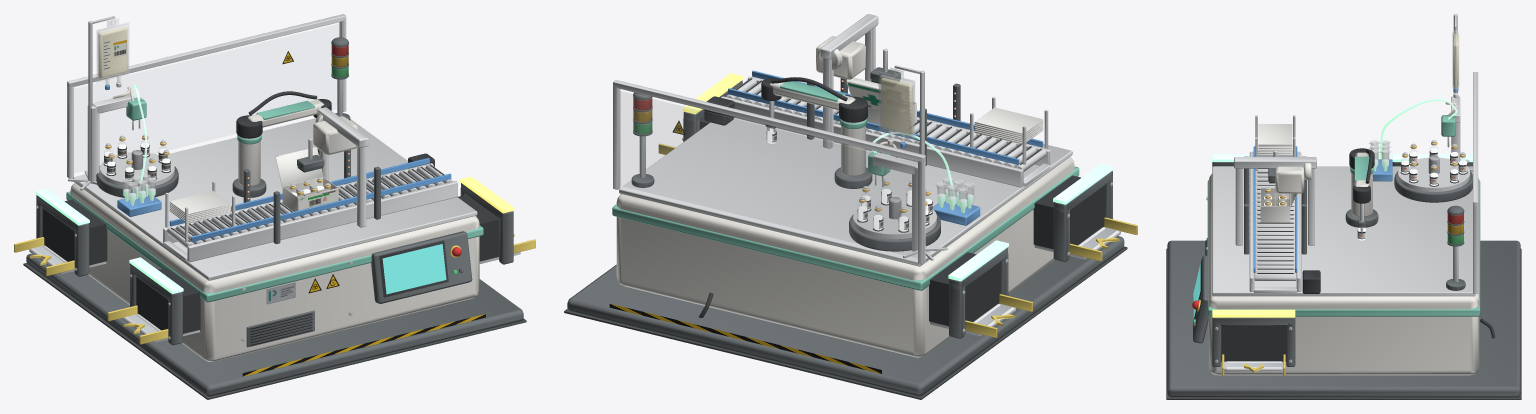
File: envasadora.glb
3 views of the same model, side by side, from view 1: azimuth 30°, elevation 25°; view 2: azimuth 150°, elevation 25°; view 3: azimuth 270°, elevation 25° (orthographic). The views are drawn at different scales.
Visible parts, largest first — view 1: armario, resguardo, mesa, zocalo, cinta_lateral-1, franja_familia, consola_cuerpo, pantalla, boca_entrada0_hueco, boca_entrada1_hueco, resguardo_perfil_sup, zocalo_goma (+32 smaller); view 2: armario, resguardo, mesa, zocalo, franja_familia, cinta_lateral1, resguardo_perfil_sup, boca_entrada1_hueco, boca_entrada0_hueco, zocalo_goma, cuerpo, vaciar_suero (+28 smaller); view 3: mesa, zocalo, armario, boca_salida_hueco, franja_familia, zocalo_goma, carrusel_estrella, carrusel_base, etiq_puente, consola_cuerpo, etiq_cuerpo, resguardo_perfil_sup (+21 smaller).
Boxes of the visible parts, x1,y1,x2,y2 form: armario: [70, 183, 479, 361]; resguardo: [74, 24, 339, 172]; mesa: [72, 118, 477, 280]; zocalo: [26, 253, 523, 396]; cinta_lateral-1: [187, 181, 457, 262]; franja_familia: [66, 191, 483, 302]; consola_cuerpo: [371, 231, 472, 303]; pantalla: [382, 244, 446, 294]; boca_entrada0_hueco: [42, 199, 107, 265]; boca_entrada1_hueco: [136, 268, 200, 333]; resguardo_perfil_sup: [67, 14, 346, 87]; zocalo_goma: [23, 263, 526, 399]; armario: [616, 157, 1074, 357]; resguardo: [619, 91, 917, 257]; mesa: [619, 117, 1072, 266]; zocalo: [567, 236, 1124, 396]; franja_familia: [612, 166, 1079, 290]; cinta_lateral1: [721, 96, 1023, 187]; resguardo_perfil_sup: [613, 80, 925, 161]; boca_entrada1_hueco: [1033, 175, 1105, 249]; boca_entrada0_hueco: [929, 252, 1000, 325]; zocalo_goma: [564, 246, 1127, 399]; cuerpo: [879, 75, 914, 136]; vaciar_suero: [881, 78, 912, 134]; mesa: [1212, 166, 1475, 296]; zocalo: [1167, 240, 1520, 397]; armario: [1208, 174, 1479, 375]; boca_salida_hueco: [1221, 326, 1286, 361]; franja_familia: [1207, 180, 1480, 316]; zocalo_goma: [1166, 248, 1521, 399]; carrusel_estrella: [1398, 157, 1470, 191]; carrusel_base: [1394, 171, 1472, 202]; etiq_puente: [1234, 157, 1316, 168]; consola_cuerpo: [1193, 255, 1208, 343]; etiq_cuerpo: [1275, 166, 1304, 193]; resguardo_perfil_sup: [1473, 72, 1478, 206].
Size of the model in its own units: 2.44 by 1.59 by 1.97.
Materials: 68 (8 with a texture image).
